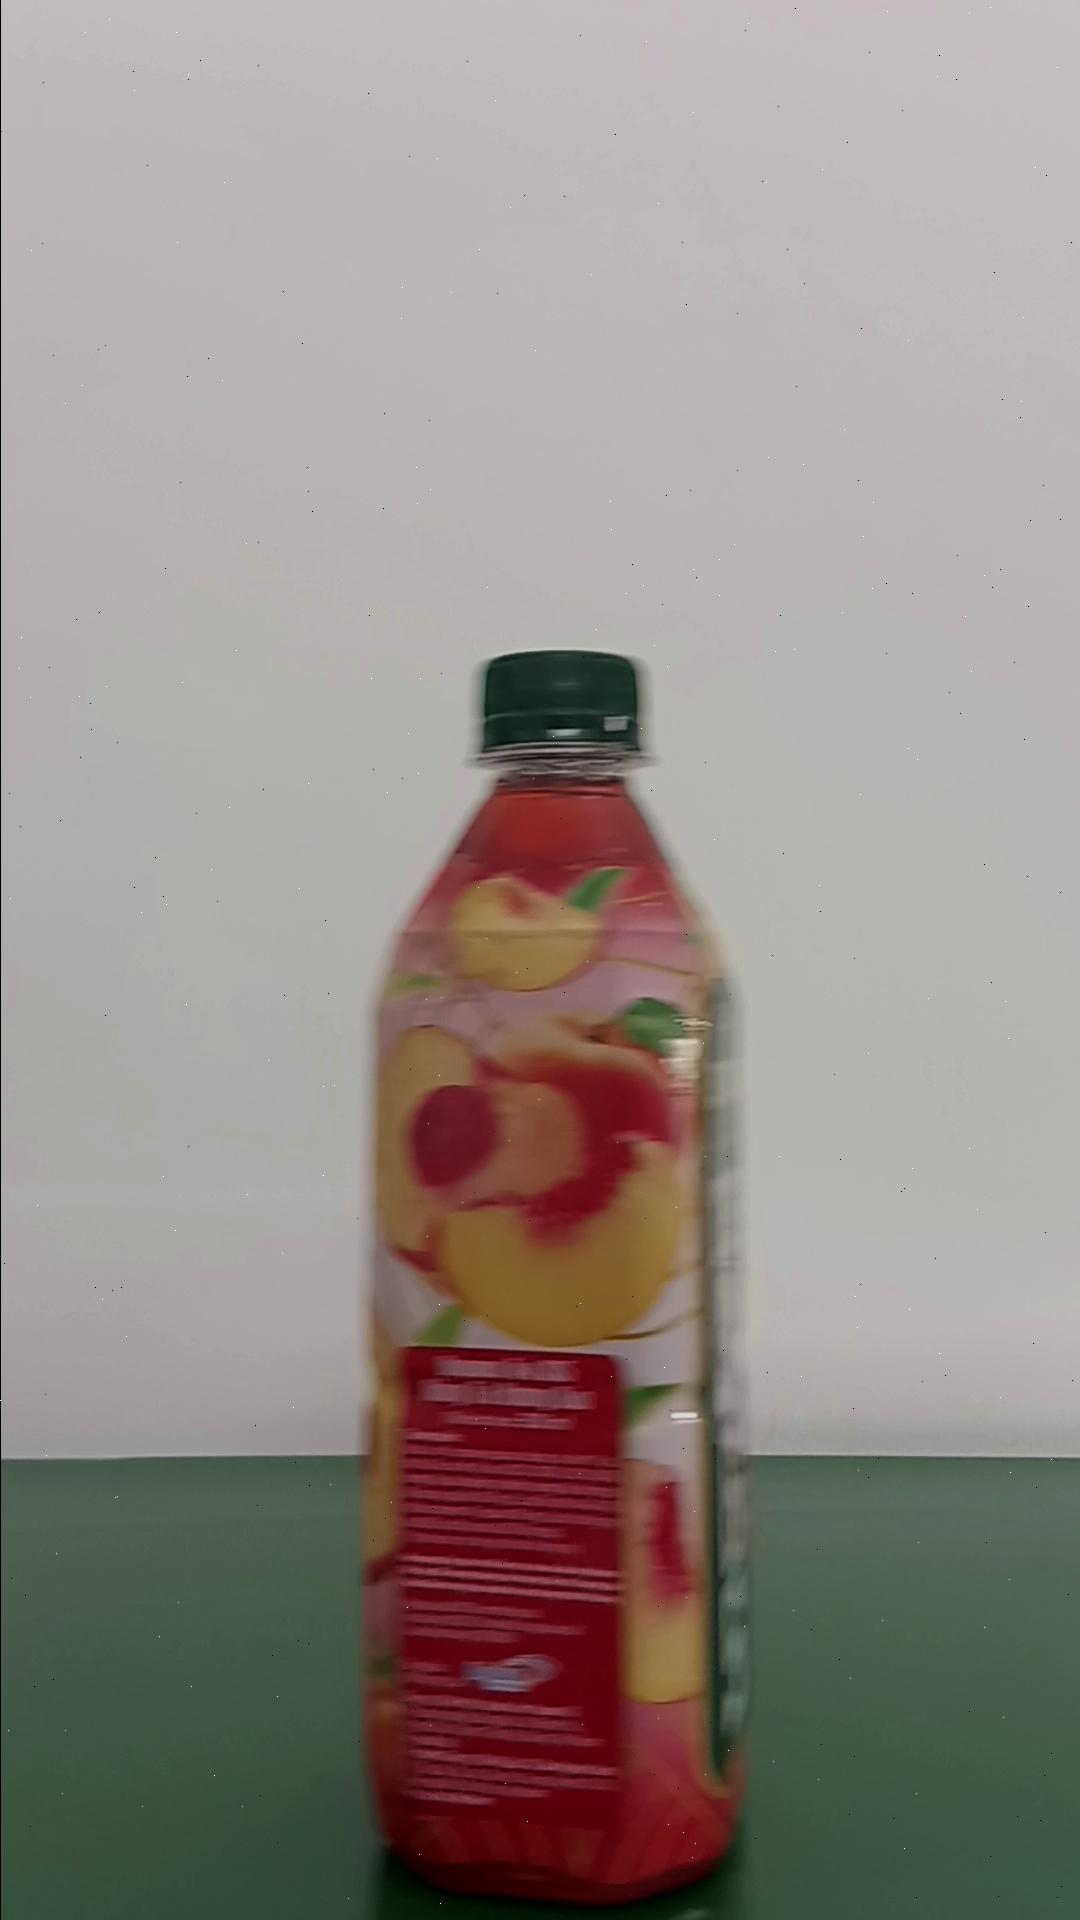khong loi: (357, 646, 756, 1903)
